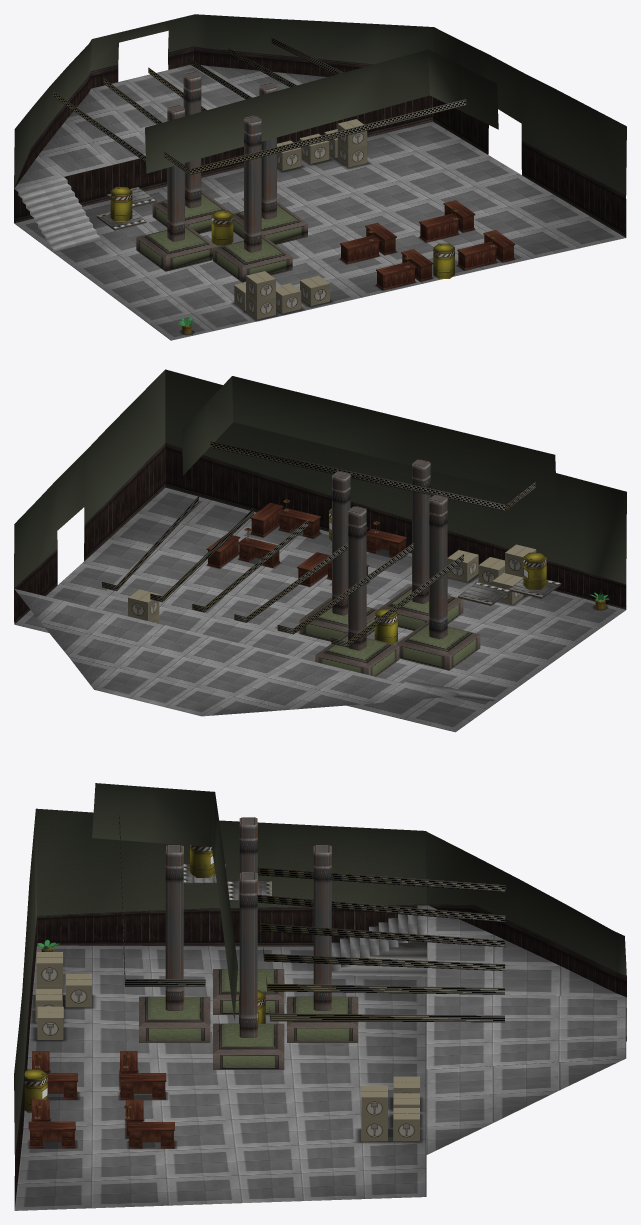
File: room_3.glb
3 views of the same model, one above another, from view 1: azimuth 30°, elevation 25°; view 2: azimuth 150°, elevation 25°; view 3: azimuth 270°, elevation 25° (orthographic). The views are drawn at different scales.
Parts seen in each view (by area): view 1: floor, walls, TopCeiling, floor2, walls3, head (×4), shaft (×4), platform_wall, stairs, CBMetalBoxSides (×6), gagTank1 (×3), Lights6 (+2 smaller); view 2: floor, walls, floor2, TopCeiling, walls3, shaft (×4), head (×4), Lights6, gagTank1 (×2), LongLights_Lights4, LongLights_Lights6, LongLights_Lights1 (+7 smaller); view 3: floor, walls, floor2, walls3, head (×4), shaft (×4), TopCeiling, CBMetalBoxSides (×4), stairs, LongLights_Lights2, LongLights_Lights1, Lights1 (+7 smaller).
Part boxes in pixels (bbox=[...]): floor: bbox=[14, 121, 625, 340]; walls: bbox=[14, 14, 626, 195]; TopCeiling: bbox=[145, 49, 498, 173]; floor2: bbox=[14, 64, 327, 188]; walls3: bbox=[14, 46, 626, 237]; head (×4): bbox=[136, 191, 307, 282]; shaft (×4): bbox=[167, 71, 276, 252]; platform_wall: bbox=[14, 95, 432, 223]; stairs: bbox=[15, 177, 100, 252]; CBMetalBoxSides (×6): bbox=[246, 138, 367, 319]; gagTank1 (×3): bbox=[110, 186, 454, 278]; Lights6: bbox=[164, 99, 466, 175]; floor: bbox=[14, 487, 625, 732]; walls: bbox=[14, 369, 626, 587]; floor2: bbox=[14, 588, 454, 716]; TopCeiling: bbox=[182, 376, 556, 501]; walls3: bbox=[14, 443, 626, 623]; shaft (×4): bbox=[332, 459, 447, 650]; head (×4): bbox=[299, 586, 480, 676]; Lights6: bbox=[210, 441, 535, 510]; gagTank1 (×2): bbox=[374, 552, 546, 644]; LongLights_Lights4: bbox=[277, 543, 413, 634]; LongLights_Lights6: bbox=[331, 554, 463, 647]; LongLights_Lights1: bbox=[192, 520, 308, 612]; floor: bbox=[14, 945, 426, 1210]; walls: bbox=[14, 808, 626, 1156]; floor2: bbox=[426, 905, 626, 1154]; walls3: bbox=[14, 904, 626, 1209]; head (×4): bbox=[139, 969, 358, 1069]; shaft (×4): bbox=[165, 817, 331, 1037]; TopCeiling: bbox=[92, 783, 237, 1020]; CBMetalBoxSides (×4): bbox=[37, 985, 419, 1141]; stairs: bbox=[331, 905, 426, 971]; LongLights_Lights2: bbox=[260, 917, 505, 947]; LongLights_Lights1: bbox=[263, 946, 505, 970]; Lights1: bbox=[266, 975, 504, 994].
Size of the model in its own units: 141 by 46.61 by 137.
29 materials, 28 textured.
